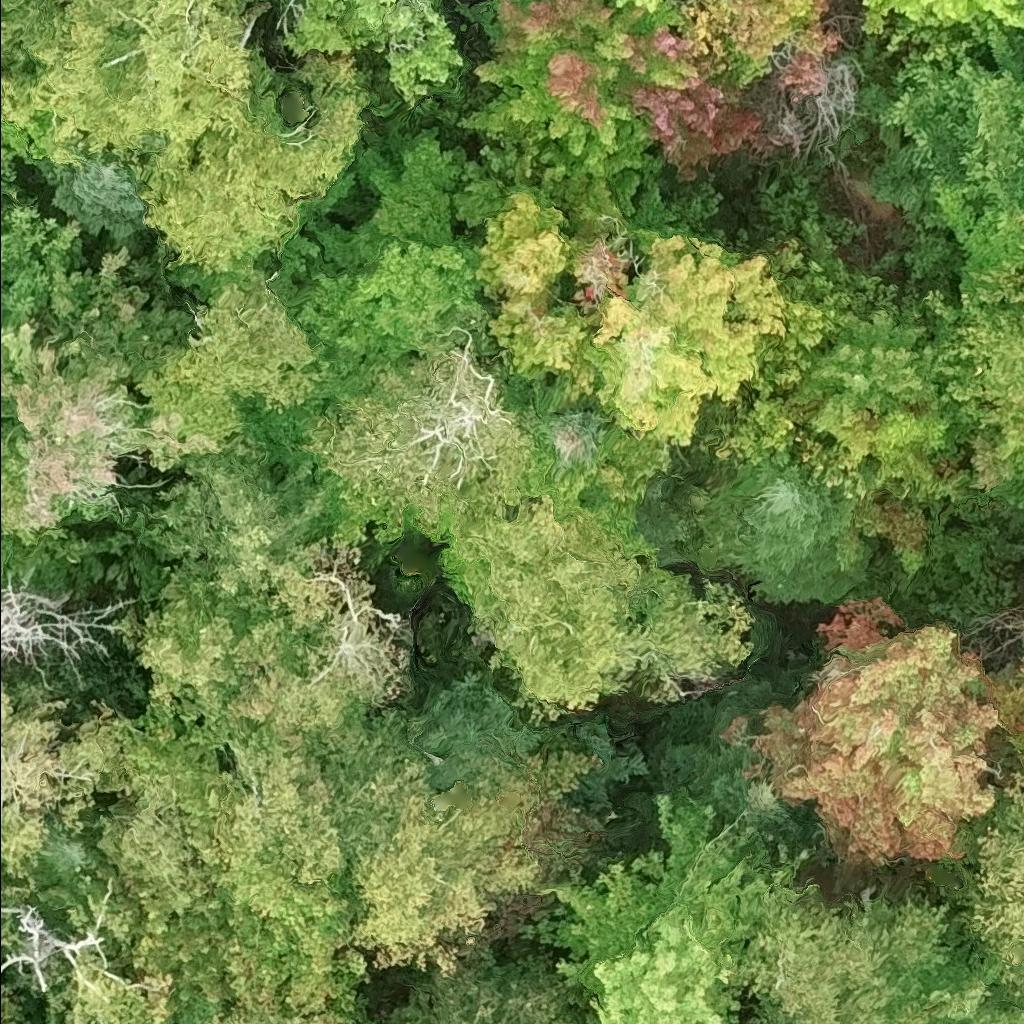crown: (474, 162, 791, 446), (109, 701, 368, 1017), (718, 592, 1003, 869), (324, 707, 604, 977), (439, 495, 760, 723), (516, 791, 799, 1023), (457, 0, 773, 182), (264, 350, 540, 546), (135, 50, 367, 277), (0, 322, 224, 543), (713, 219, 885, 466), (799, 369, 996, 574), (133, 265, 353, 439), (32, 0, 252, 160), (734, 892, 980, 1023), (650, 669, 814, 865), (858, 20, 1023, 213), (0, 676, 139, 879), (691, 459, 867, 608), (782, 287, 968, 414), (280, 0, 466, 108), (218, 746, 343, 899), (949, 768, 1023, 998), (676, 0, 844, 98), (98, 781, 200, 915), (400, 950, 582, 1023), (946, 250, 1023, 411), (86, 283, 197, 382), (639, 452, 715, 572), (50, 156, 147, 247), (31, 807, 110, 903), (971, 399, 1023, 512), (861, 0, 1023, 34), (540, 397, 611, 462), (988, 645, 1023, 765), (0, 0, 46, 62), (204, 1008, 359, 1023), (0, 985, 28, 1023), (0, 65, 6, 107), (1016, 28, 1023, 37), (740, 1023, 745, 1023), (696, 1023, 702, 1023)
